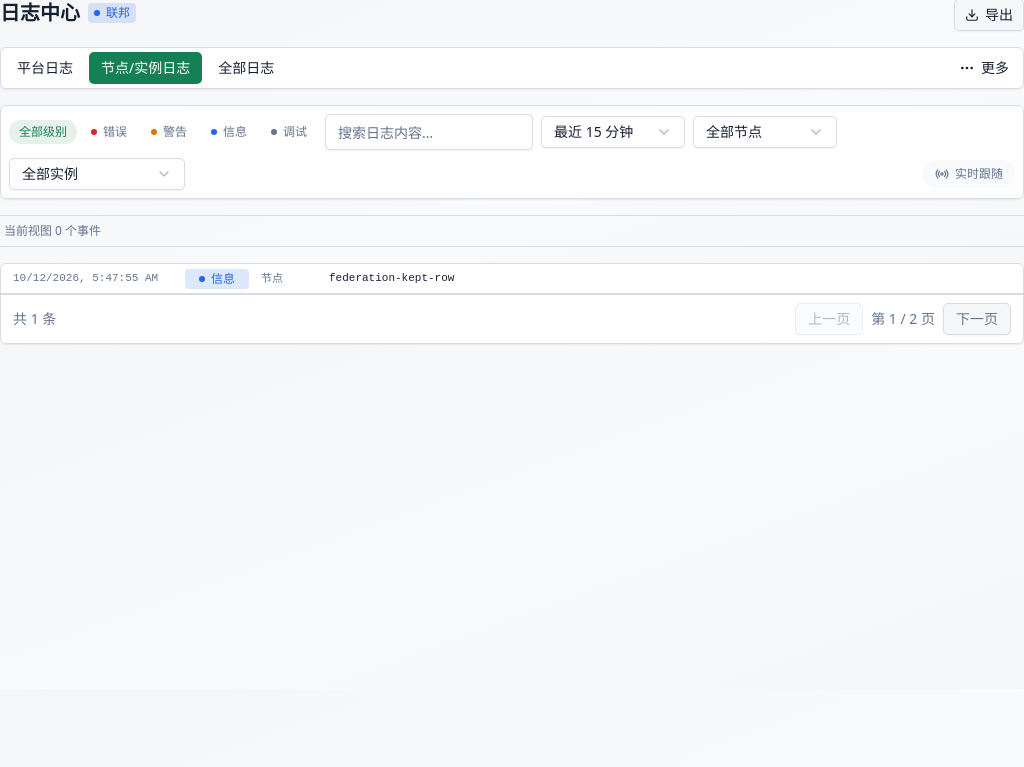
Test: 筛选身份键必须覆盖 source 维度（限流保留项的归属判据） › 切来源（全部日志视图）后持续 429：不得把上一个来源的行冒充成新来源的结果
This screenshot has width=1024, height=767.
Expected: the text "federation-kept-row" is shown, [329, 272, 454, 284]
Note: 切到「全部日志」视图（source 选择器只在该视图下渲染）。
Click the tab "全部日志". click: (246, 68)
box: [206, 52, 286, 84]
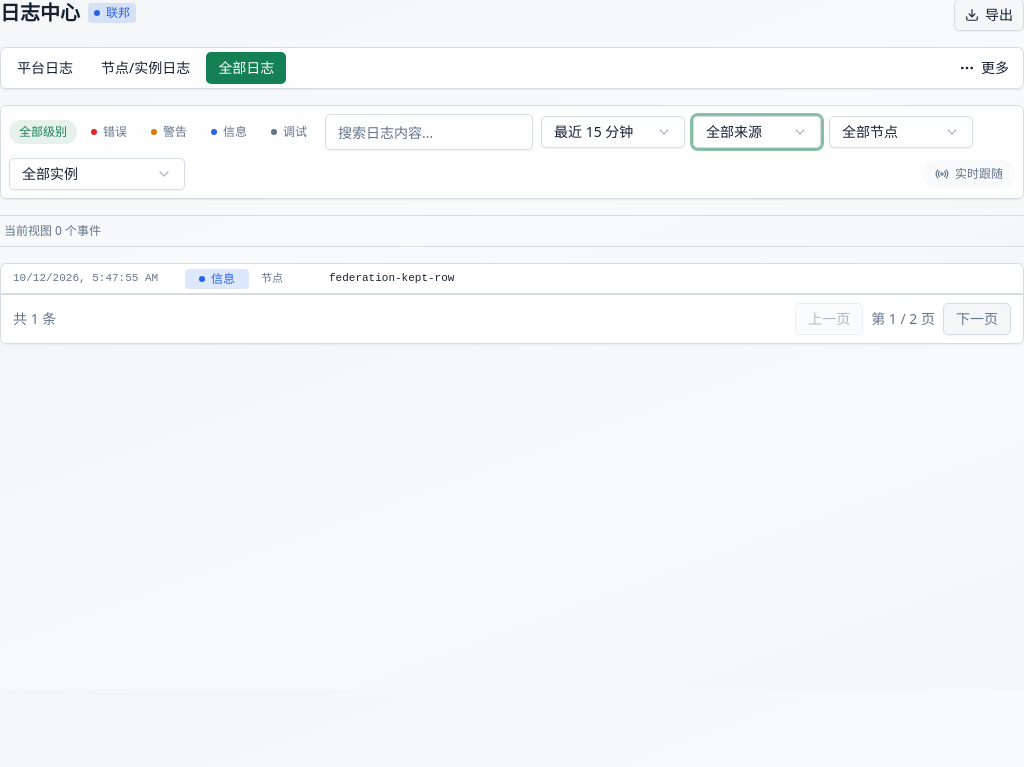
Press Enter
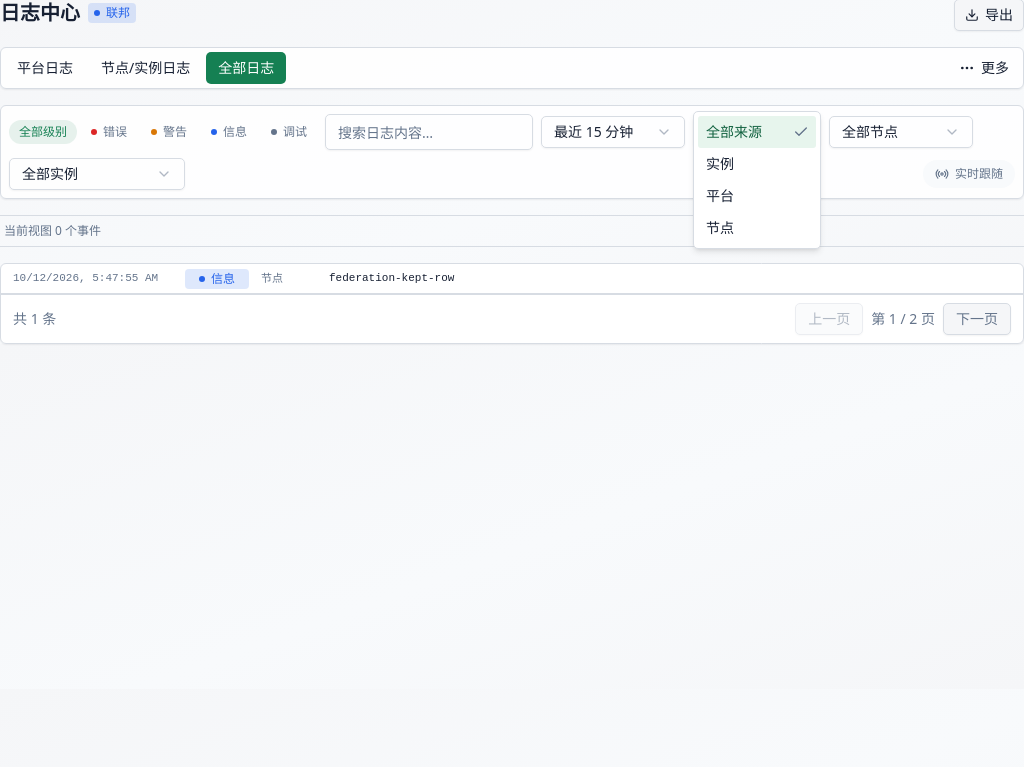
Click the option "平台". click: (720, 196)
box: [706, 186, 734, 205]
(page scrolled)
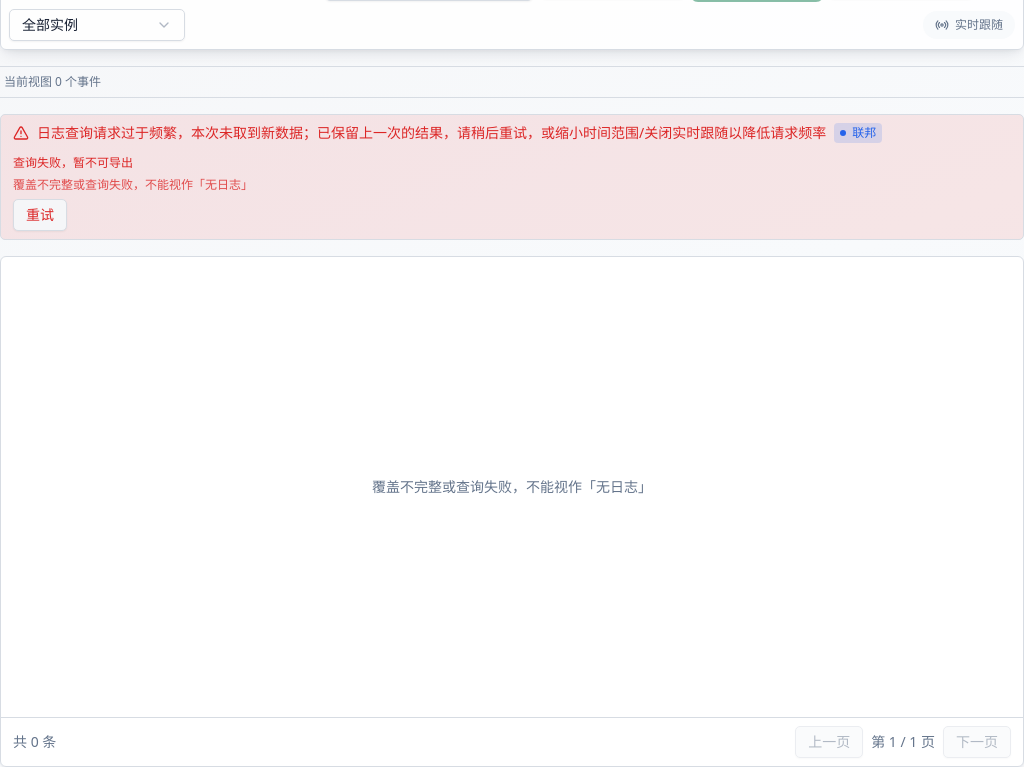
Expected: the text "federation-kept-row" is gone
